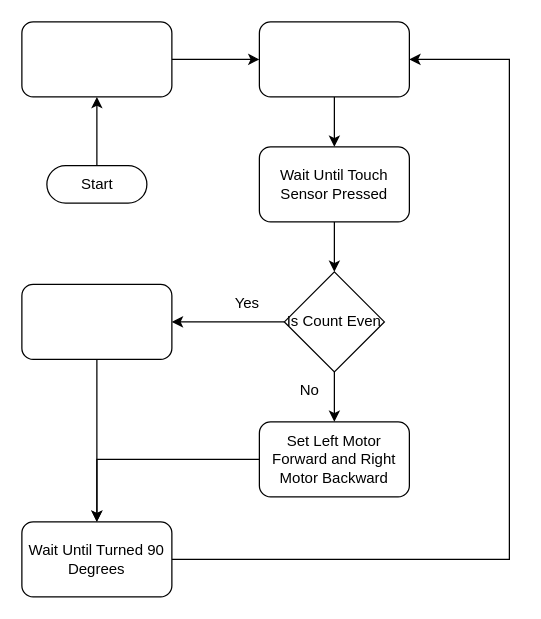
This 541x619 diagram has some shape labels left out. Each missing label, with the centre of its shape:
Initialize Count Variable to 0: [96,59]
Set Both Motors Forward: [333,59]
Set Left Motor Backward and Right Motor Forward: [96,321]
